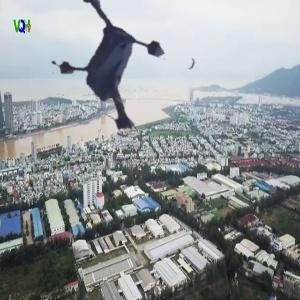drone: (45, 1, 202, 158)
